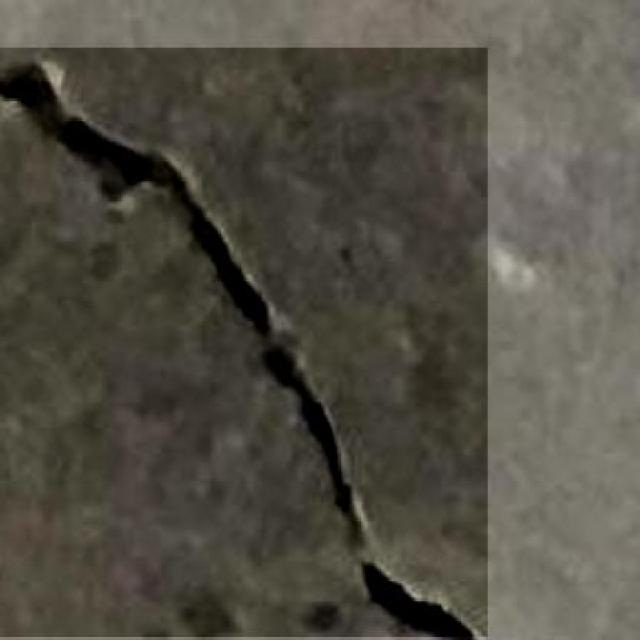Crack: (0, 62, 490, 620)
